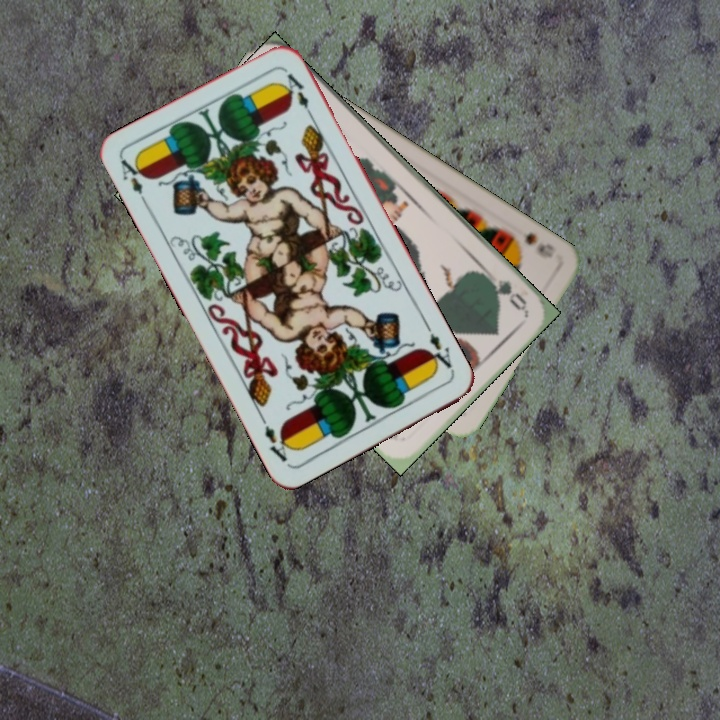EA: (420, 329, 457, 375), (116, 153, 149, 197)
GO: (479, 270, 530, 314)
S9: (504, 228, 559, 261)
